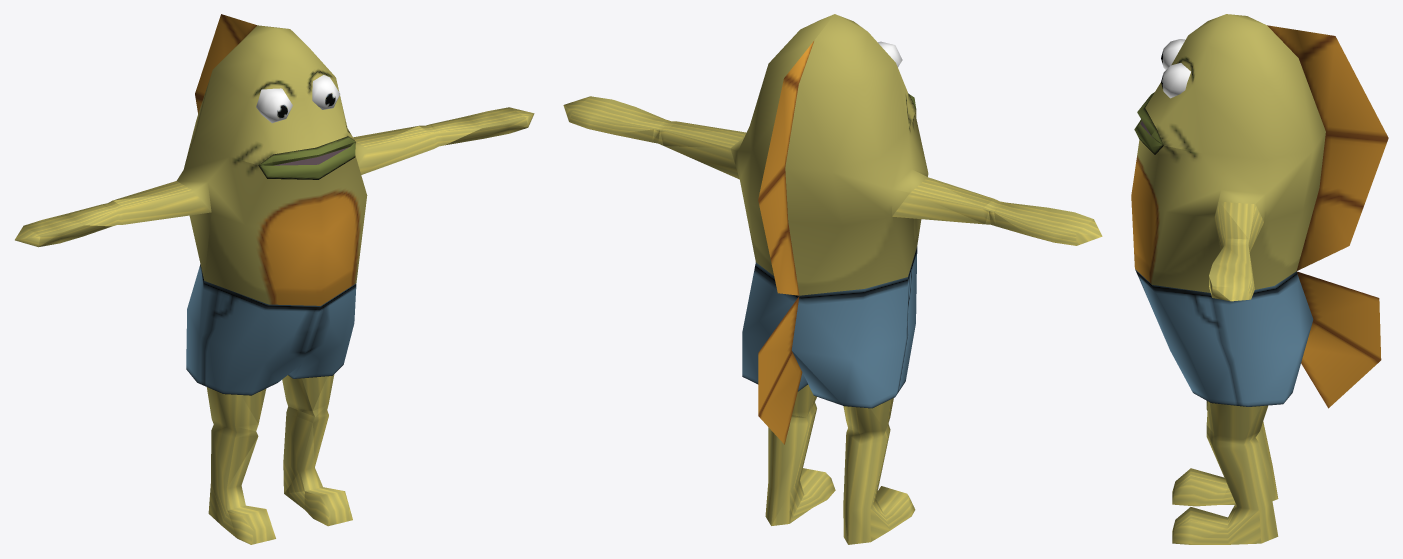
File: ai_sponge_donation_fish.glb
3 views of the same model, side by side, from view 1: azimuth 30°, elevation 25°; view 2: azimuth 150°, elevation 25°; view 3: azimuth 270°, elevation 25° (orthographic). The views are drawn at different scales.
Visible parts, largest first — view 1: Object_2; view 2: Object_2; view 3: Object_2.
Part boxes in pixels (bbox=[...]): Object_2: bbox=[15, 14, 534, 544]; Object_2: bbox=[563, 14, 1102, 544]; Object_2: bbox=[1131, 14, 1388, 544].
Bounding box in the file's own units: 0.5484 × 0.4883 × 0.226.
Materials: 1 (1 with a texture image).
